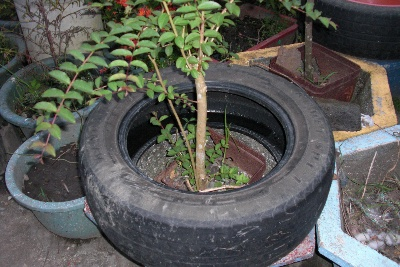tire: (78, 62, 336, 267)
